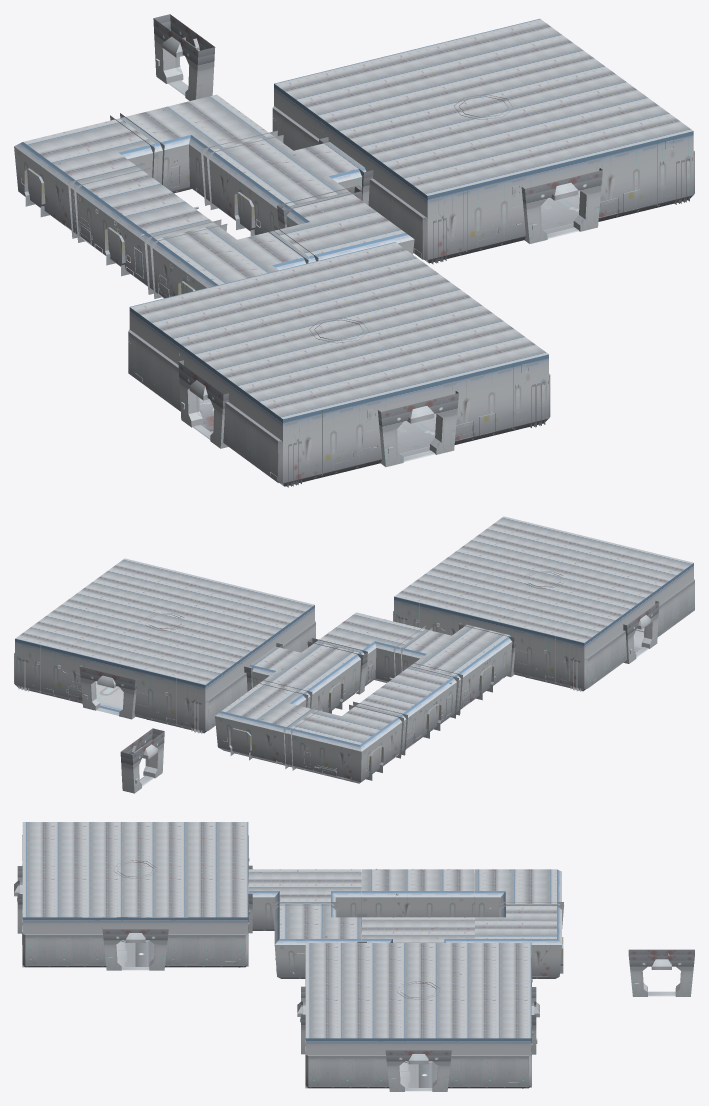
Rendered from Combined_Mesh_root_scene__13_e7023e4f__ZombiesII_laboratory_01_d_47037629_c1f257.obj.
3 views of the same model, one above another, from view 1: azimuth 30°, elevation 25°; view 2: azimuth 150°, elevation 25°; view 3: azimuth 270°, elevation 25° (orthographic). The views are drawn at different scales.
Size of the model in its own units: 93.74 by 10.34 by 121.
Materials: 592 (592 with a texture image).
